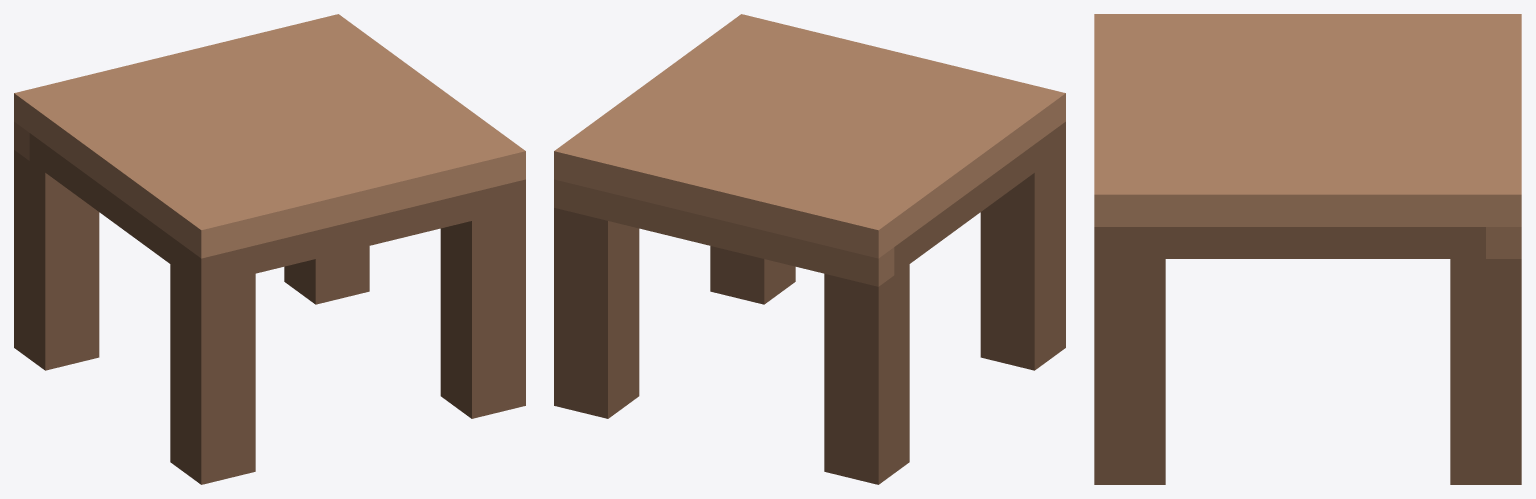
File: candil_aceite_mesa_oxidado_01.glb
3 views of the same model, side by side, from view 1: azimuth 30°, elevation 25°; view 2: azimuth 150°, elevation 25°; view 3: azimuth 270°, elevation 25° (orthographic). The views are drawn at different scales.
Parts seen in each view (by area): view 1: candil_aceite_mesa_oxidado; view 2: candil_aceite_mesa_oxidado; view 3: candil_aceite_mesa_oxidado.
Boxes of the visible parts, x1,y1,x2,y2 form: candil_aceite_mesa_oxidado: (14, 14, 525, 484); candil_aceite_mesa_oxidado: (554, 14, 1065, 484); candil_aceite_mesa_oxidado: (1094, 14, 1521, 484).
Size of the model in its own units: 1 by 0.75 by 1.
